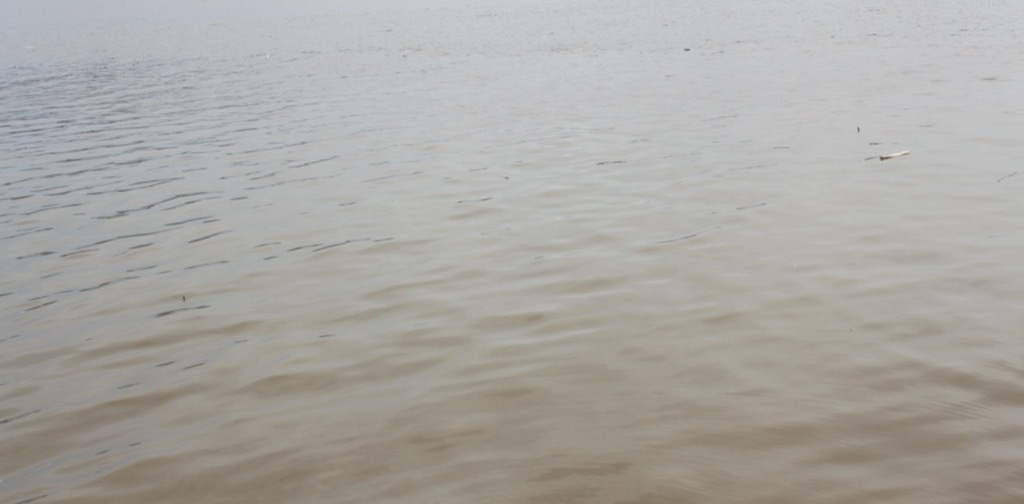organic: (588, 152, 637, 171), (174, 289, 194, 317), (678, 39, 699, 59)
plastic: (860, 140, 921, 175)
